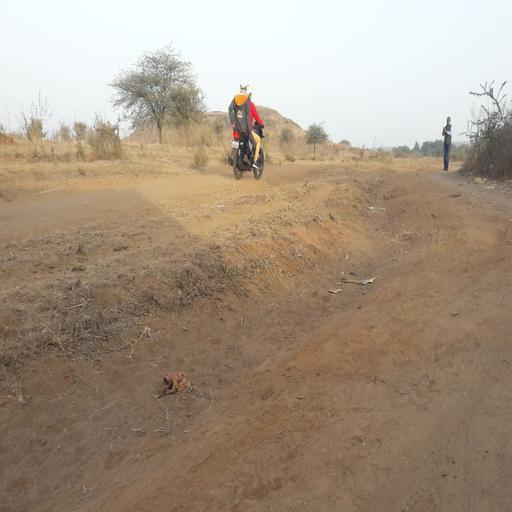vehicle_track: (0, 177, 237, 239)
